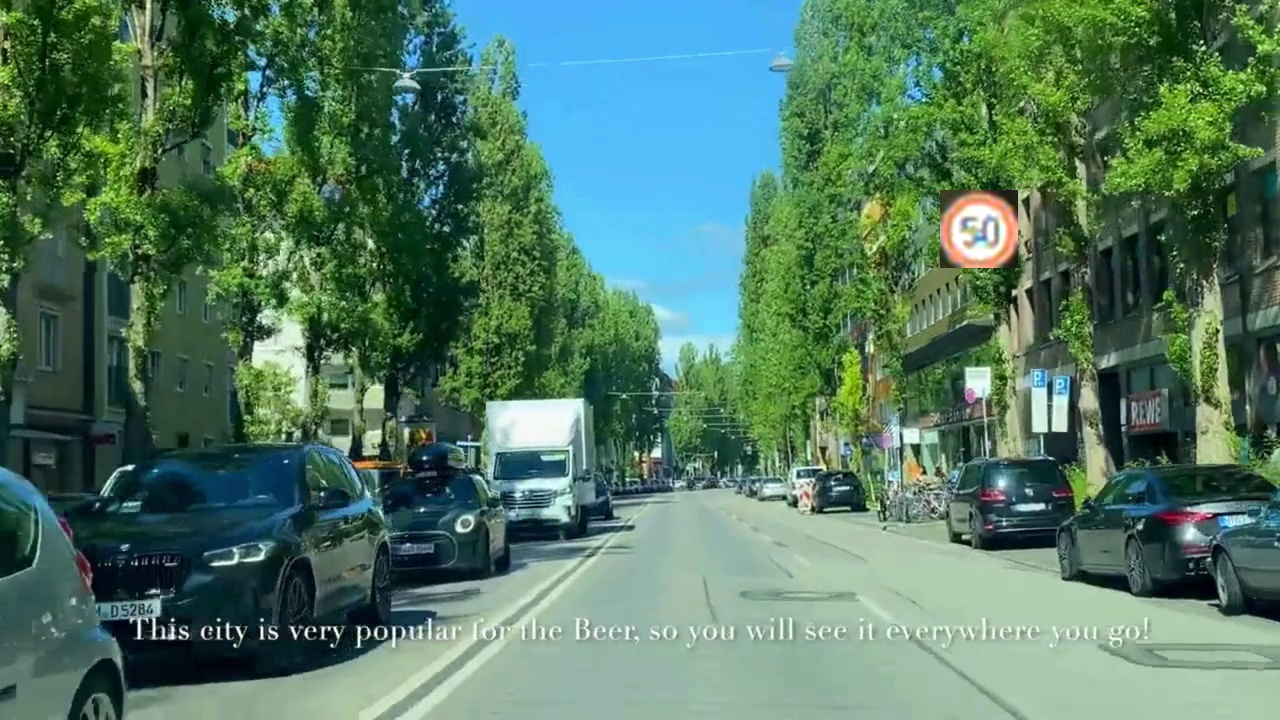Speed 50: (940, 190, 1018, 268)
